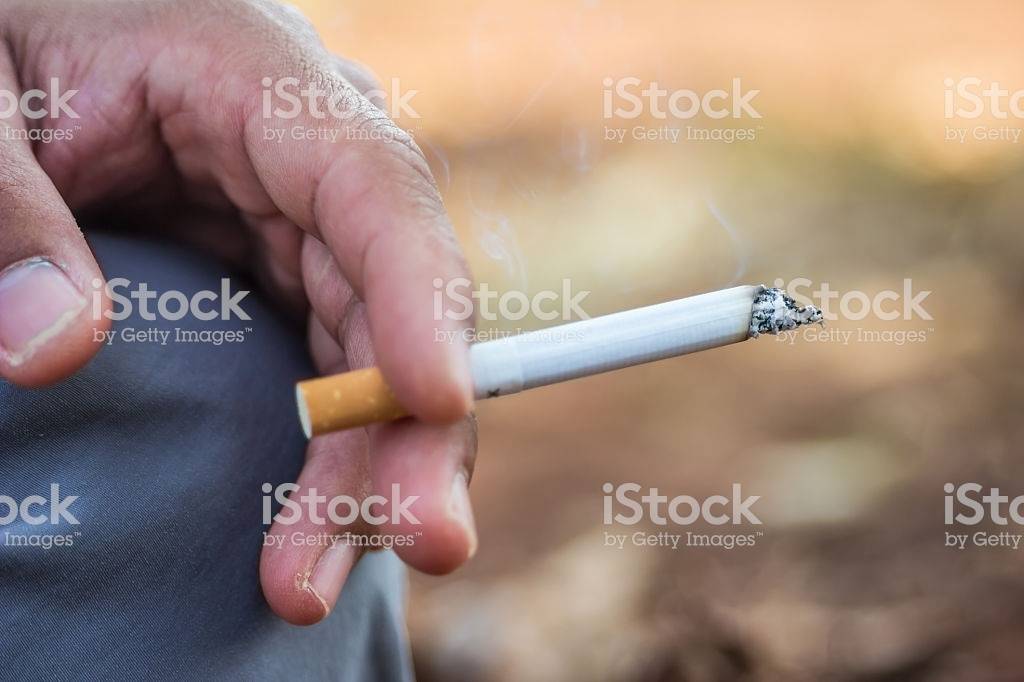sigaretta: (291, 271, 794, 446)
